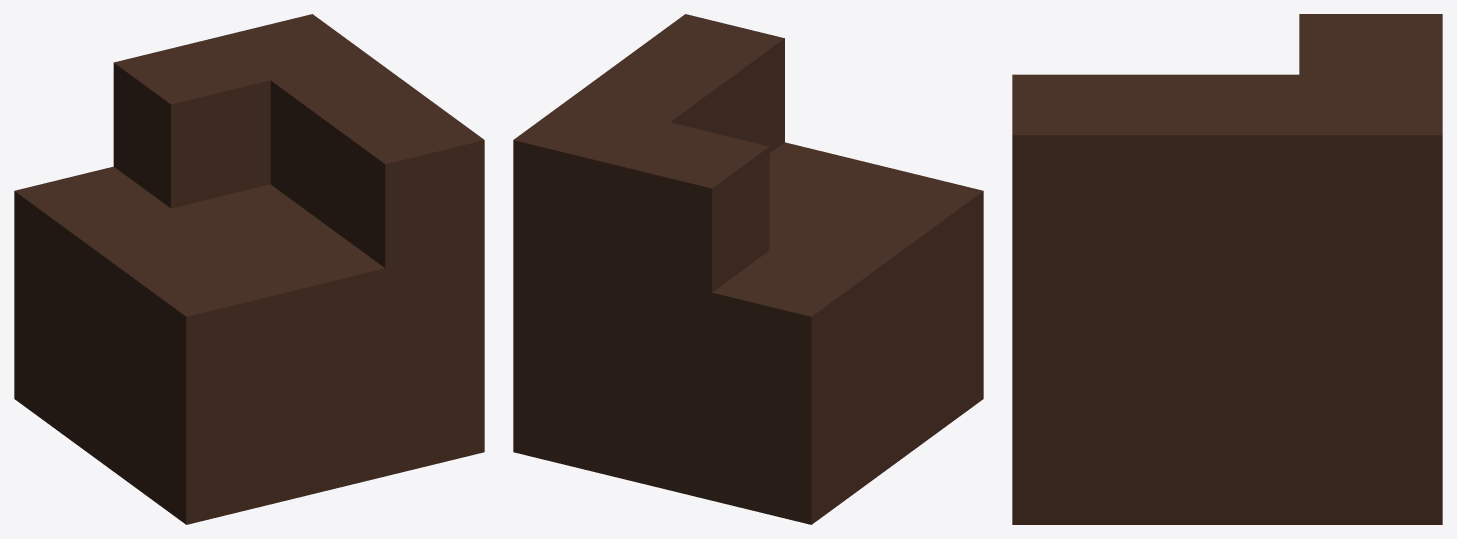
Rendered from beaver__leg_bl.glb.
The picture shows the model from 3 angles, left to right: view 1: azimuth 30°, elevation 25°; view 2: azimuth 150°, elevation 25°; view 3: azimuth 270°, elevation 25°; orthographic projection. The views are drawn at different scales.
Visible parts, largest first — view 1: beaver__leg_bl; view 2: beaver__leg_bl; view 3: beaver__leg_bl.
Boxes of the visible parts, x1=… form: beaver__leg_bl: x1=14, y1=14, x2=484, y2=524; beaver__leg_bl: x1=513, y1=14, x2=983, y2=524; beaver__leg_bl: x1=1012, y1=14, x2=1442, y2=524.
Size of the model in its own units: 0.3 by 0.3 by 0.3.
Materials: 1 (1 with a texture image).
